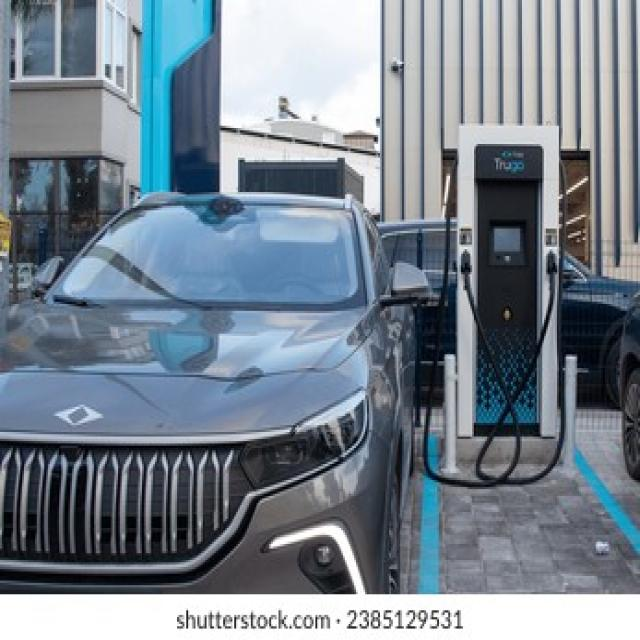togg: (50, 399, 106, 432)
